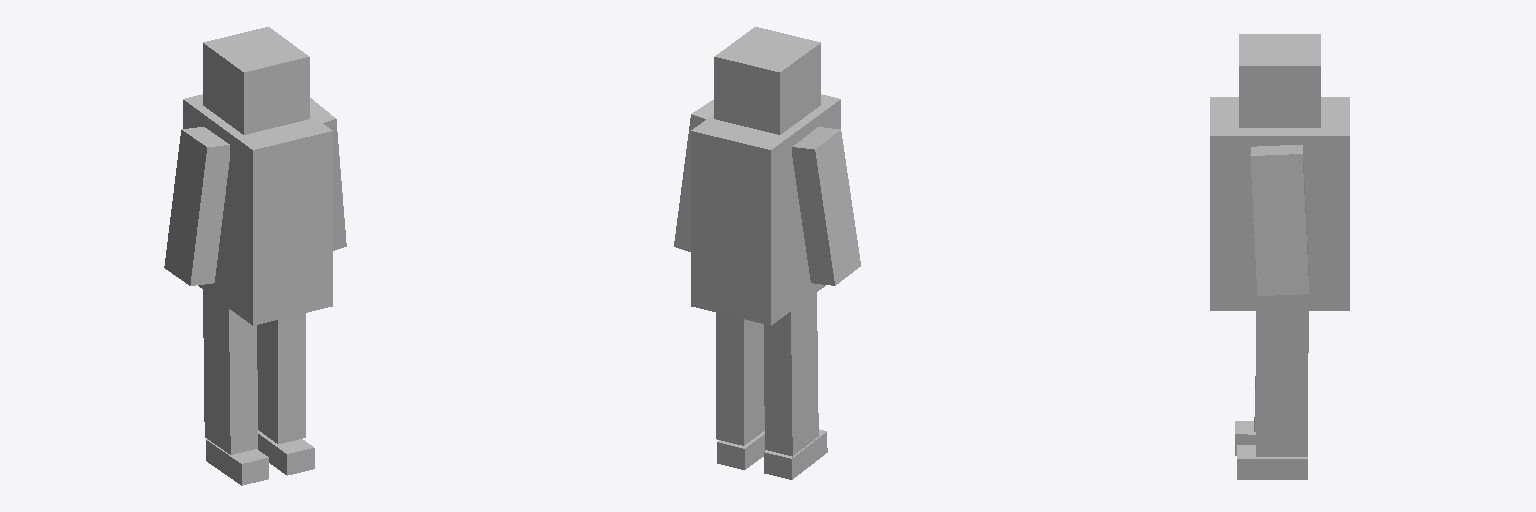
File: man0.obj
3 views of the same model, side by side, from view 1: azimuth 30°, elevation 25°; view 2: azimuth 150°, elevation 25°; view 3: azimuth 270°, elevation 25° (orthographic).
Parts seen in each view (by area): view 1: body; view 2: body; view 3: body.
Part boxes in pixels (left/top/right/bottom): body: left=164, top=27, right=346, bottom=485; body: left=674, top=27, right=860, bottom=479; body: left=1210, top=34, right=1349, bottom=479.
Size of the model in its own units: 20.64 by 51.2 by 15.75.